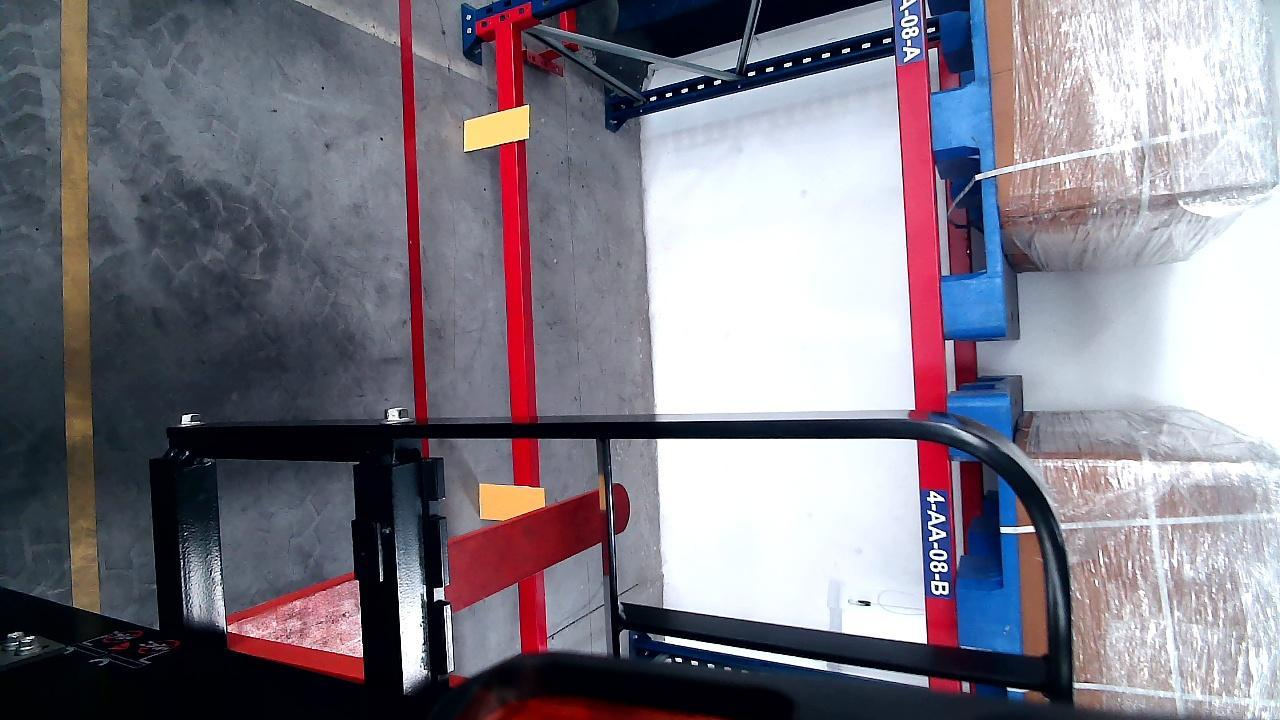red_line: (398, 0, 431, 427)
yellow_line: (58, 0, 99, 620)
